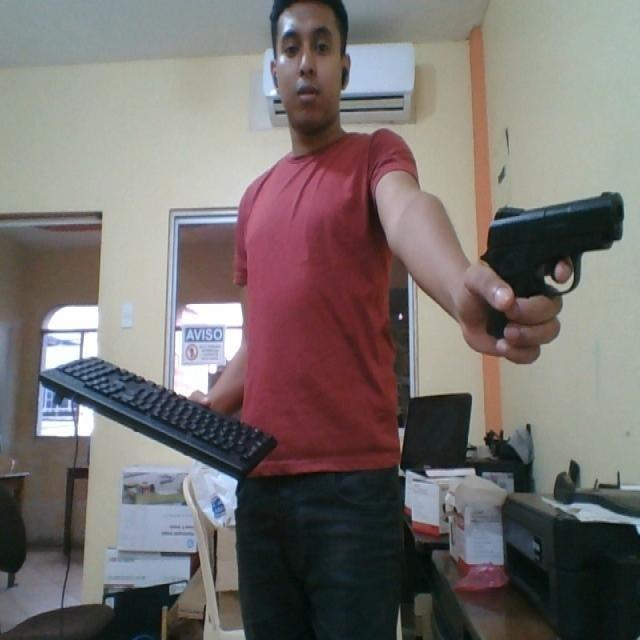Gun: (476, 180, 636, 332)
